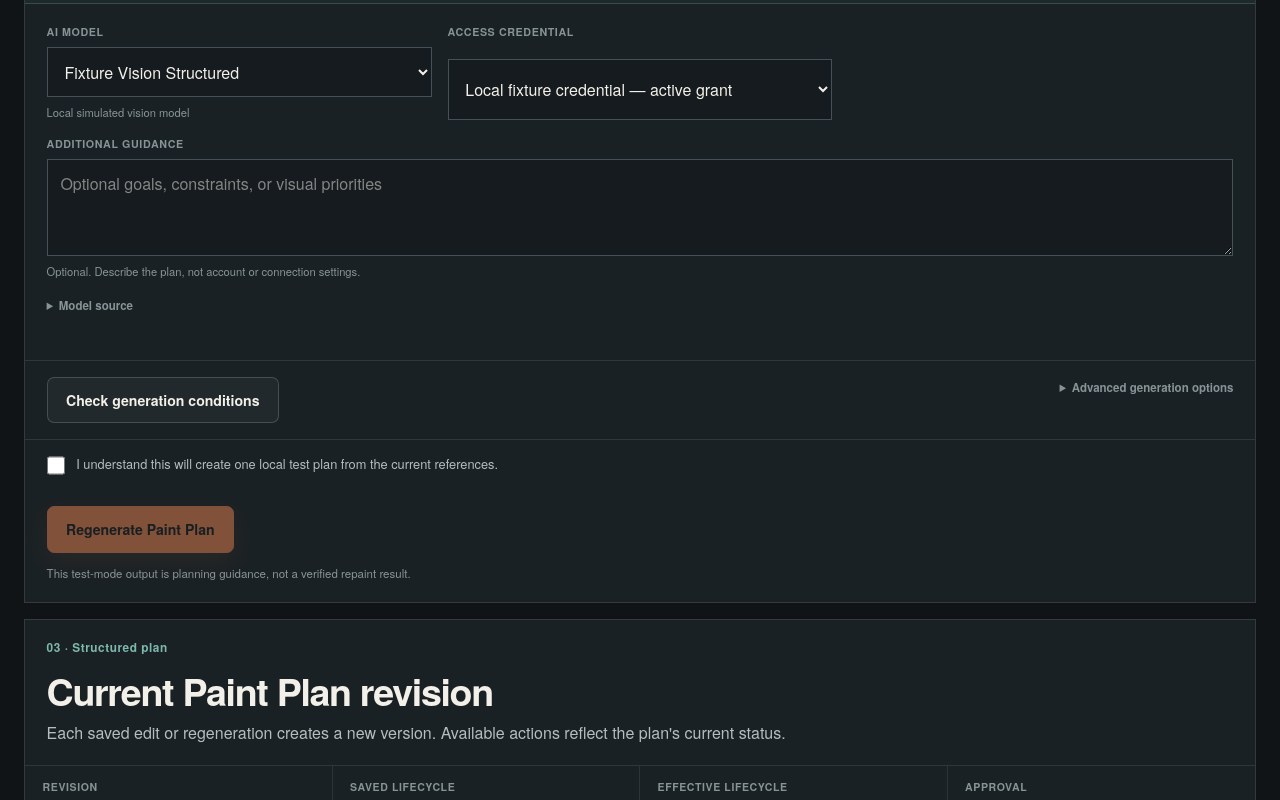
Test: Paint Plan workbench › rejects a preview that does not match the currently selected model
The image size is (1280, 800).
(page scrolled)
Click the button "Check generation conditions": (163, 400) [47,377,279,423]
(page scrolled)
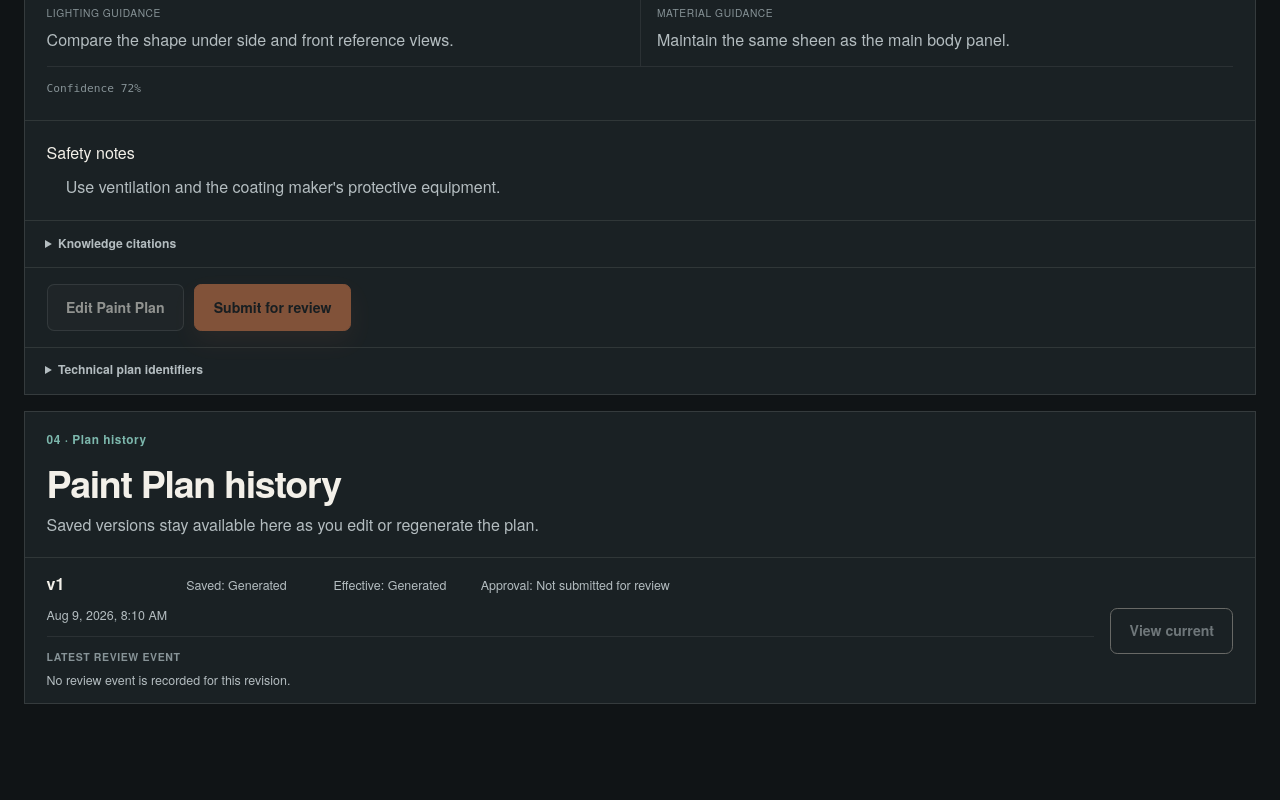
Expected: the button with aria-label "View current revision 1" is disabled, [1110,608,1233,654]
